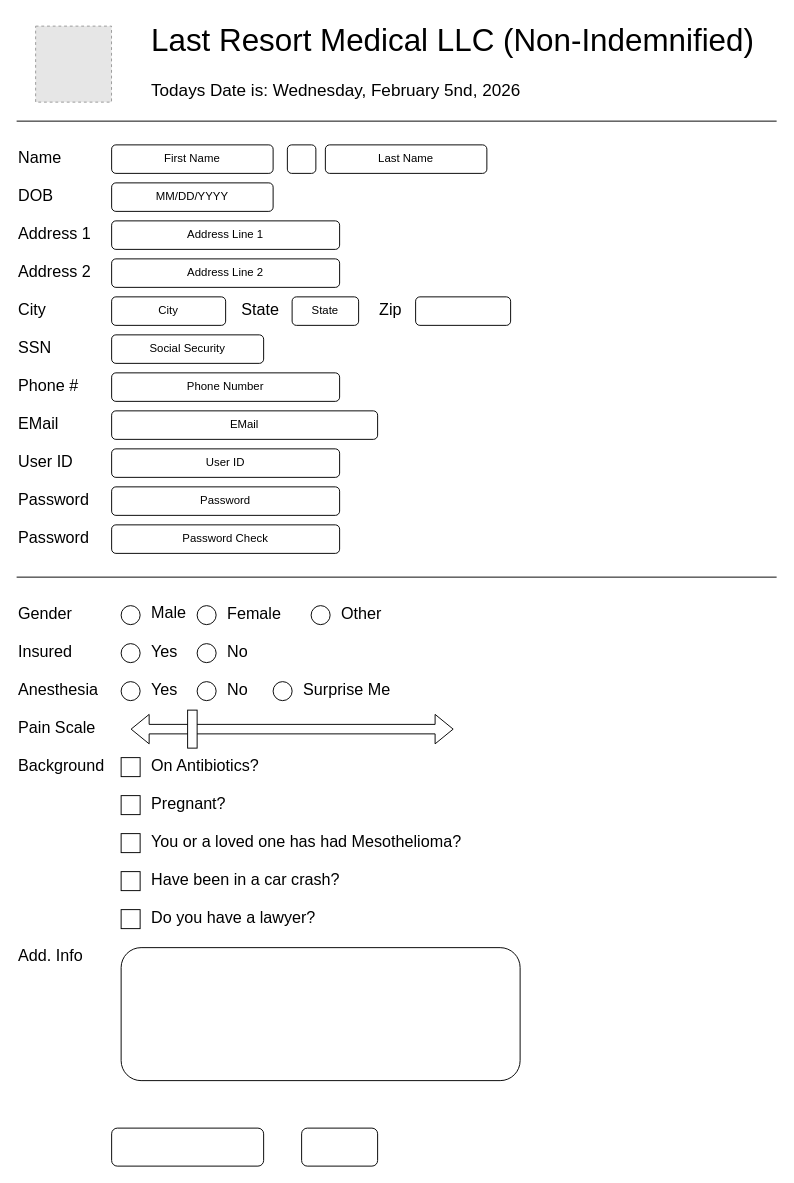
The diagram is 794 pixels wide and 1183 high, and some of its shapes have lost their labels. Grey dashed boxes stand in for pictures. Each missing label, with the box of its shape:
Clear: (301, 1127, 378, 1166)
MI: (286, 144, 316, 173)
Submit: (111, 1127, 264, 1166)
Zip Code: (415, 296, 511, 325)
